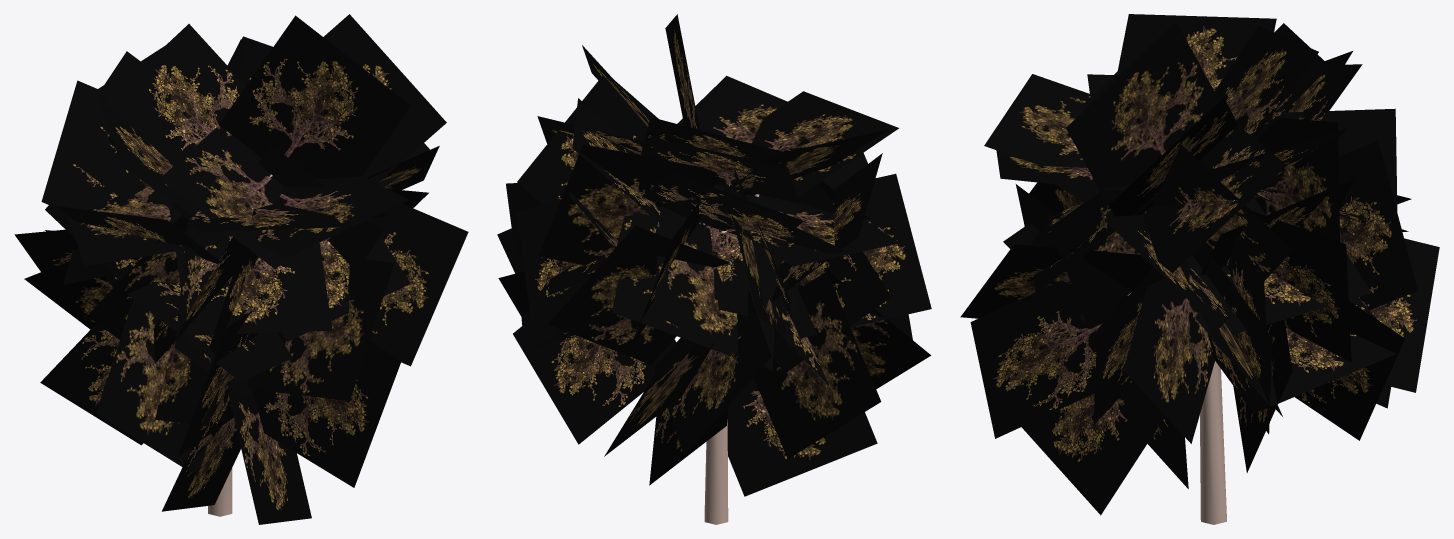
File: tree33.glb
The picture shows the model from 3 angles, left to right: view 1: azimuth 30°, elevation 25°; view 2: azimuth 150°, elevation 25°; view 3: azimuth 270°, elevation 25°; orthographic projection. The views are drawn at different scales.
Size of the model in its own units: 6.01 by 7.37 by 6.07.
Materials: 2 (1 with a texture image).
